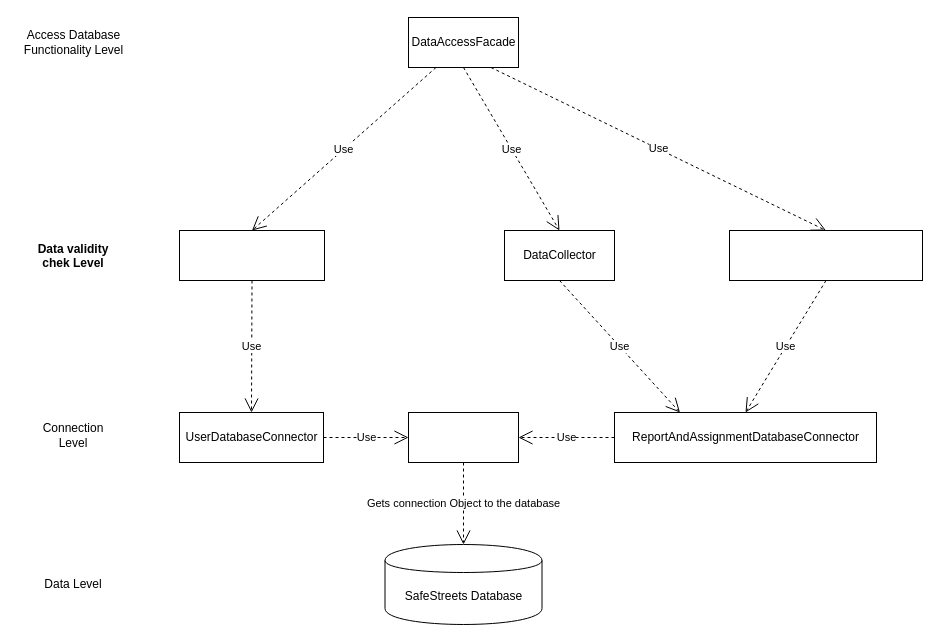
Some shapes in this 940 by 642 pixel diagram are drawn without their labels. Here are the shapes that lost their labels. From the top down, the centre of each, then its label:
At (251,255): "UserDataChecker".
At (825,255): "ReportAndAssignmentUpdater".
At (463,437): "ConnectionPool".
